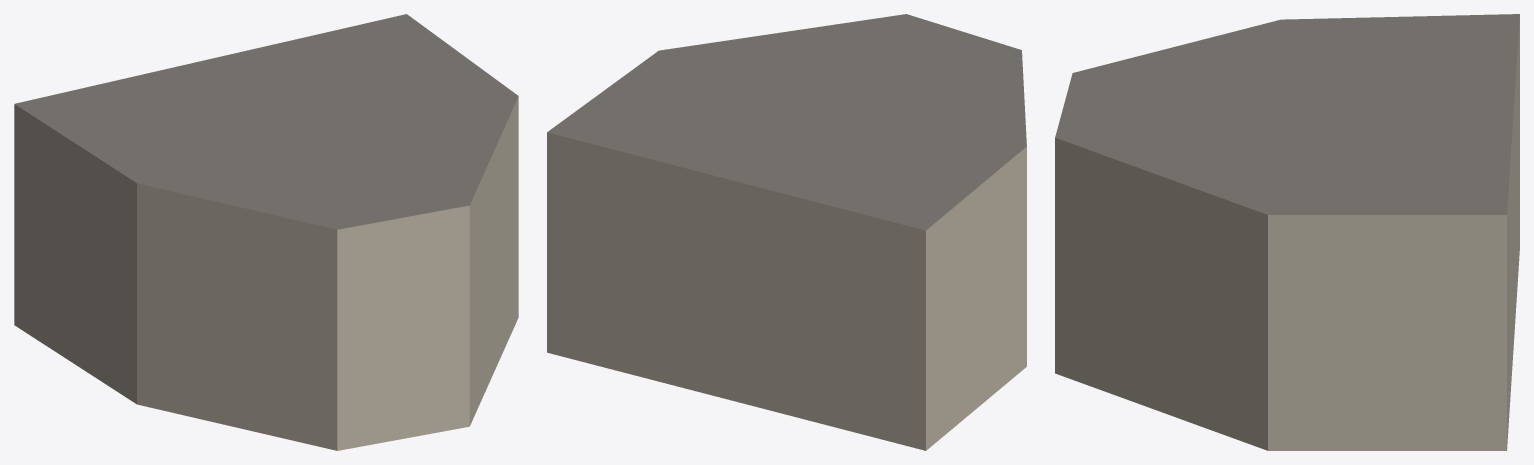
3 views of the same model, side by side, from view 1: azimuth 30°, elevation 25°; view 2: azimuth 150°, elevation 25°; view 3: azimuth 270°, elevation 25° (orthographic). The views are drawn at different scales.
Parts seen in each view (by area): view 1: HP-w1287260537; view 2: HP-w1287260537; view 3: HP-w1287260537.
Boxes of the visible parts, <box> form: HP-w1287260537: <box>14,14,518,450</box>; HP-w1287260537: <box>547,14,1026,450</box>; HP-w1287260537: <box>1055,14,1519,450</box>.
Bounding box in the file's own units: 32.91 × 18 × 32.14.
